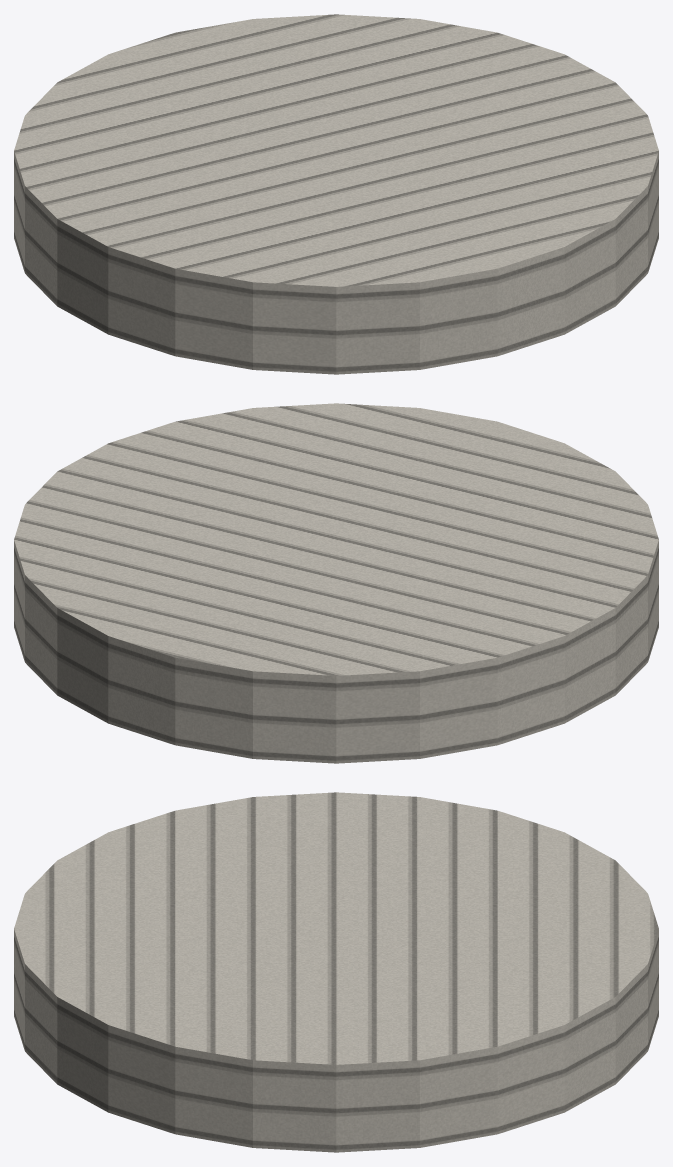
The model's file is bank_vault_door.glb.
The picture shows the model from 3 angles, top to bottom: view 1: azimuth 30°, elevation 25°; view 2: azimuth 150°, elevation 25°; view 3: azimuth 270°, elevation 25°; orthographic projection.
Parts seen in each view (by area): view 1: bank_vault_door-col; view 2: bank_vault_door-col; view 3: bank_vault_door-col.
Part boxes in pixels (<box>): bank_vault_door-col: <box>14,14,658,374</box>; bank_vault_door-col: <box>14,403,658,763</box>; bank_vault_door-col: <box>14,792,658,1152</box>.
Size of the model in its own units: 2 by 0.3 by 2.
1 material, 1 textured.
